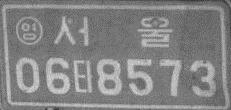0: (14, 56, 40, 94)
3: (189, 59, 216, 98)
5: (126, 57, 154, 96)
6: (44, 56, 70, 96)
7: (158, 57, 183, 96)
8: (96, 58, 122, 96)
서울_D: (52, 14, 172, 48)
영: (14, 15, 43, 45)
타: (71, 58, 94, 94)
